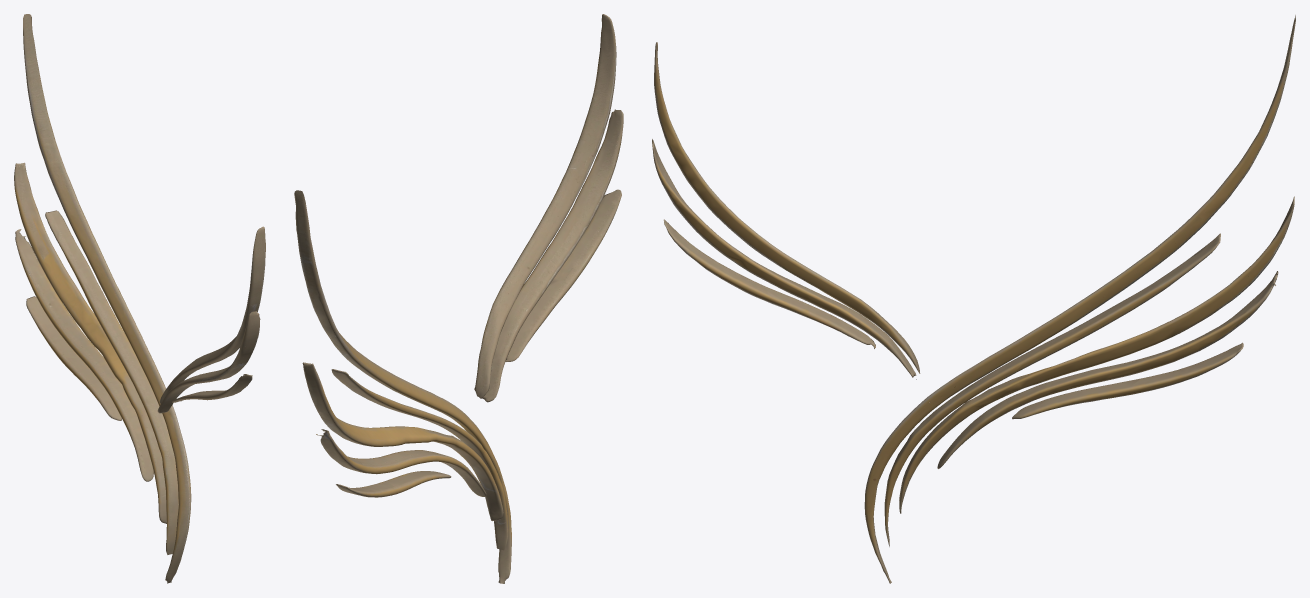
The model's file is wing-emblem-3d-model.glb.
The picture shows the model from 3 angles, left to right: view 1: azimuth 30°, elevation 25°; view 2: azimuth 150°, elevation 25°; view 3: azimuth 270°, elevation 25°; orthographic projection. The views are drawn at different scales.
Parts seen in each view (by area): view 1: tripo_node_ed2a0d89; view 2: tripo_node_ed2a0d89; view 3: tripo_node_ed2a0d89.
Part boxes in pixels (x1,y1,x2,y2): tripo_node_ed2a0d89: (14,14,265,583); tripo_node_ed2a0d89: (294,14,623,583); tripo_node_ed2a0d89: (652,15,1295,583).
Bounding box in the file's own units: 9.5 × 96.79 × 97.91.
Materials: 1 (1 with a texture image).
